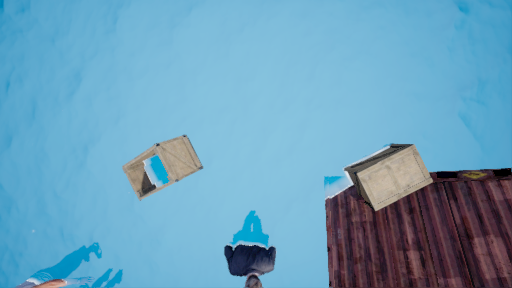person: (225, 214, 278, 287)
